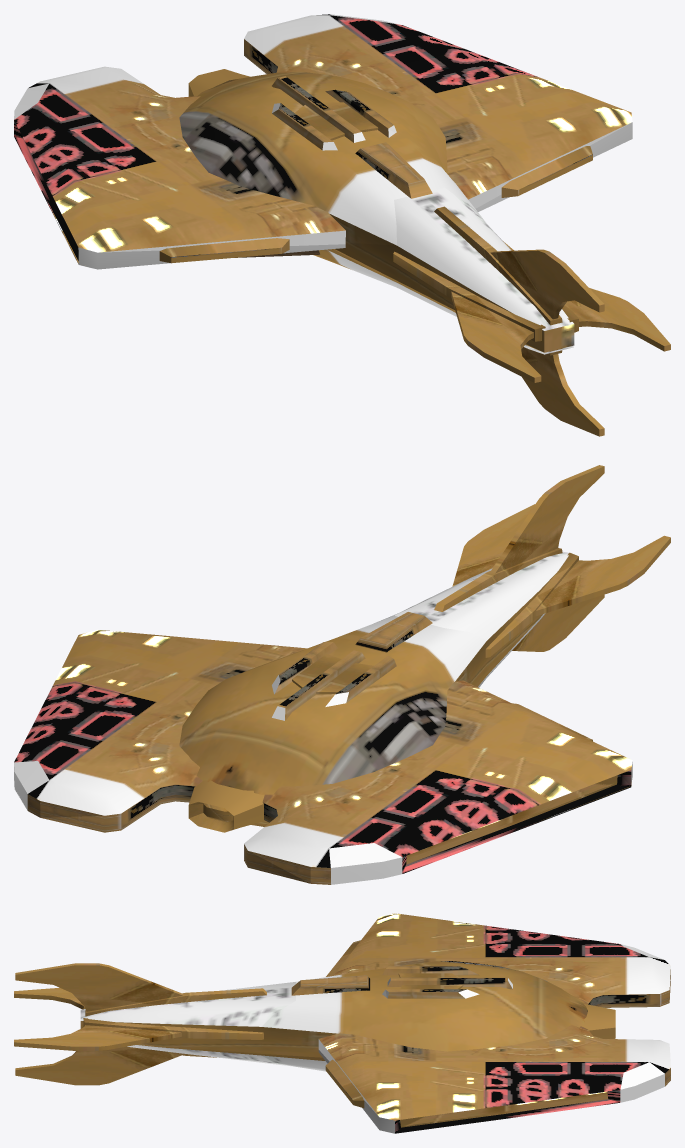
Rendered from Car_Kimal.fbx.
3 views of the same model, one above another, from view 1: azimuth 30°, elevation 25°; view 2: azimuth 150°, elevation 25°; view 3: azimuth 270°, elevation 25° (orthographic). The views are drawn at different scales.
Visible parts, largest first — view 1: Car_Kimal; view 2: Car_Kimal; view 3: Car_Kimal.
Boxes of the visible parts, box(x1,y1,x2,y2) form: Car_Kimal: box(14, 14, 670, 436); Car_Kimal: box(14, 465, 670, 884); Car_Kimal: box(14, 913, 670, 1133).
Size of the model in its own units: 186 by 50.19 by 249.
Materials: 1 (1 with a texture image).
